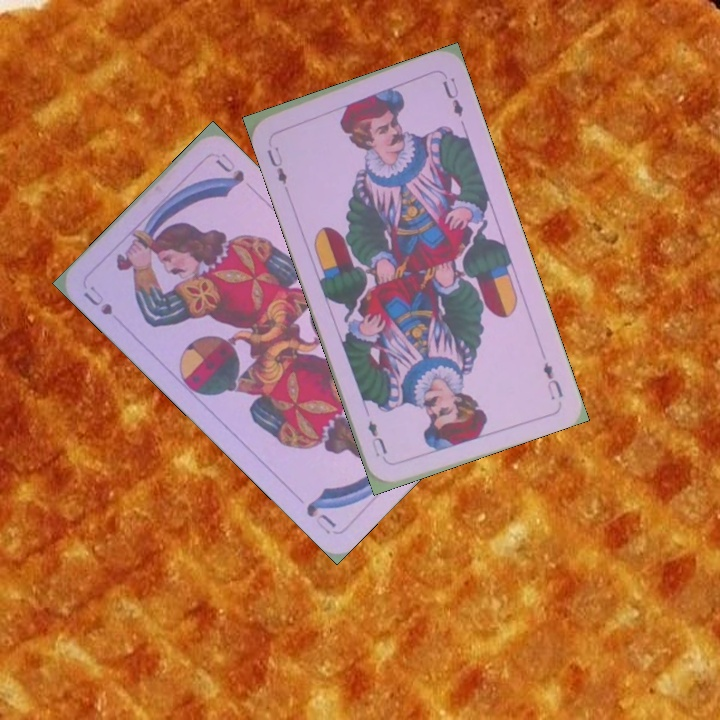EU: (262, 142, 290, 187), (539, 358, 566, 403)
SU: (79, 281, 116, 318)
